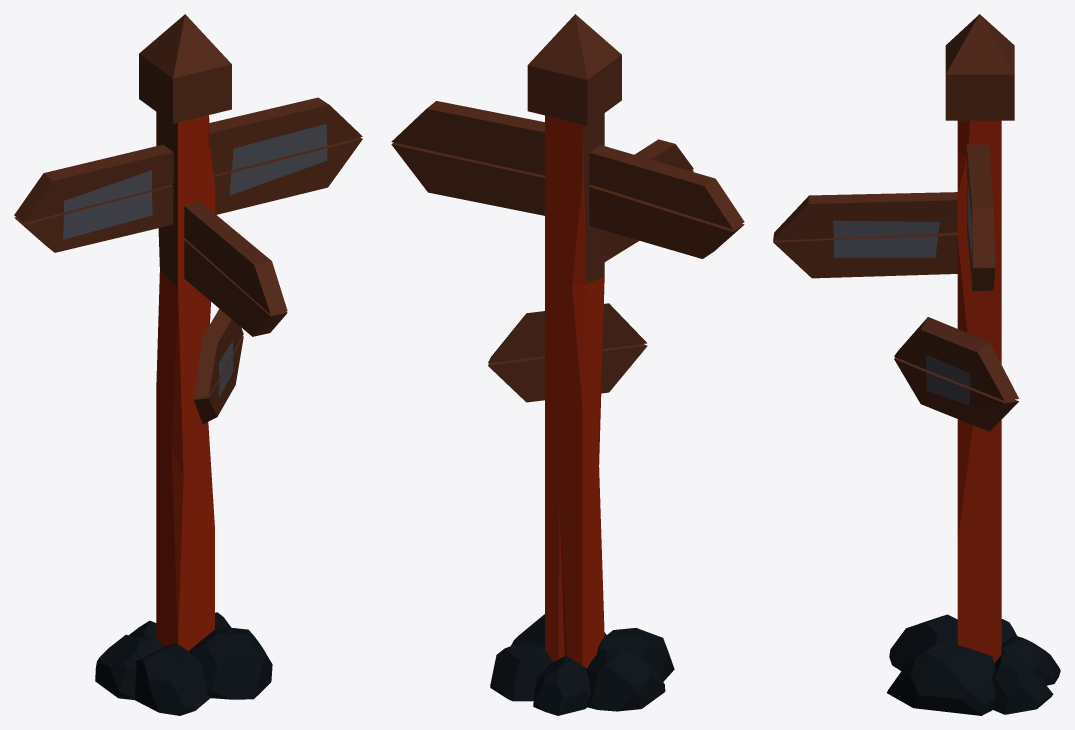
The model's file is Sign_2_3.fbx.
3 views of the same model, side by side, from view 1: azimuth 30°, elevation 25°; view 2: azimuth 150°, elevation 25°; view 3: azimuth 270°, elevation 25° (orthographic).
Visible parts, largest first — view 1: Sign_2_3; view 2: Sign_2_3; view 3: Sign_2_3.
Part boxes in pixels (box(x1,y1,x2,y2)): Sign_2_3: box(14, 14, 362, 715); Sign_2_3: box(391, 14, 744, 715); Sign_2_3: box(773, 14, 1060, 715).
Size of the model in its own units: 43.89 by 81.36 by 31.77.
